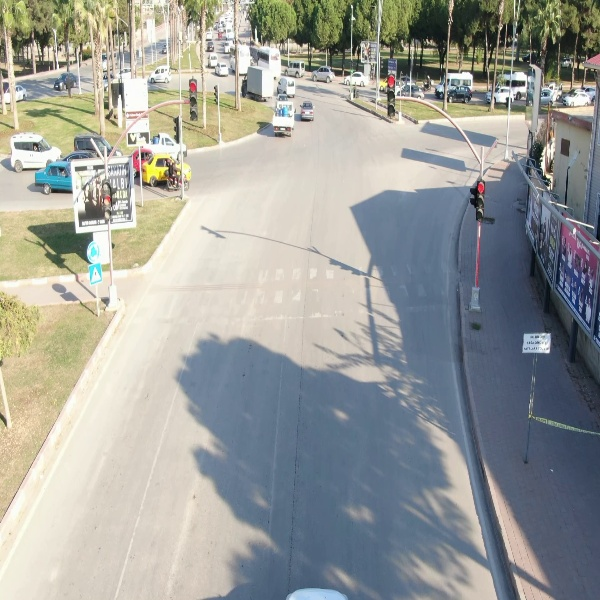car: (8, 132, 64, 172), (147, 62, 174, 87), (53, 70, 81, 91), (308, 62, 336, 83), (446, 83, 473, 103), (342, 69, 368, 87), (297, 99, 317, 122), (562, 88, 588, 105), (283, 59, 305, 76), (212, 60, 231, 78)
